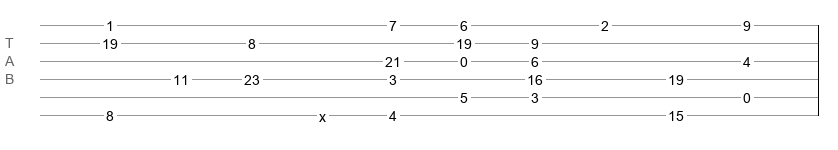0: (460, 54, 468, 64), (743, 90, 751, 100)
1: (106, 18, 114, 28)
11: (173, 72, 189, 82)
15: (668, 108, 684, 118)
16: (527, 72, 543, 82)
19: (102, 36, 118, 46), (456, 36, 472, 46), (668, 72, 684, 82)
2: (601, 18, 609, 28)
21: (385, 54, 401, 64)
23: (244, 72, 260, 82)
3: (389, 72, 397, 82), (531, 90, 539, 100)
4: (389, 108, 397, 118), (743, 54, 751, 64)
5: (460, 90, 468, 100)
6: (460, 18, 468, 28), (531, 54, 539, 64)
7: (389, 18, 397, 28)
8: (106, 108, 114, 118), (248, 36, 256, 46)
9: (531, 36, 539, 46), (743, 18, 751, 28)
x: (319, 109, 326, 117)
